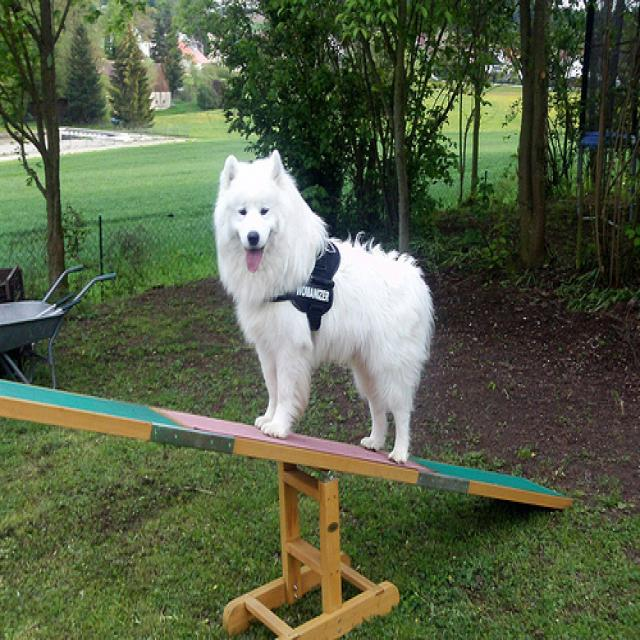dog-samoyed: (204, 137, 436, 471)
